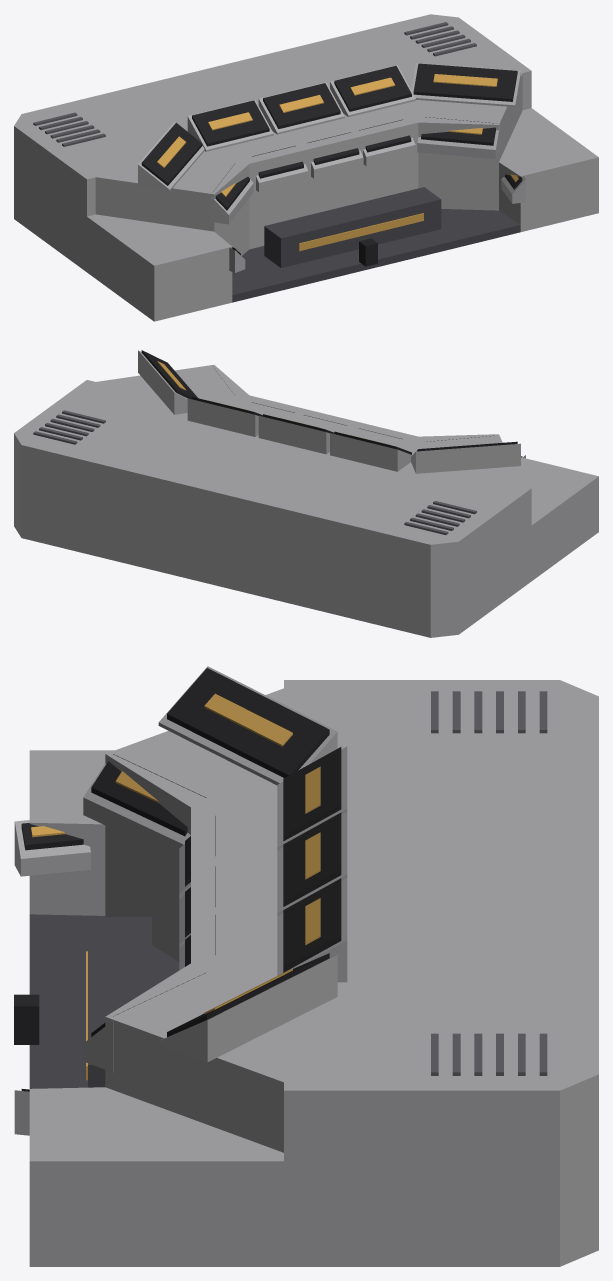
Rendered from vge_pilot_bridge.obj.
3 views of the same model, one above another, from view 1: azimuth 30°, elevation 25°; view 2: azimuth 150°, elevation 25°; view 3: azimuth 270°, elevation 25° (orthographic). The views are drawn at different scales.
Visible parts, largest first — view 1: vge_pilot_bridge_0, vge_pilot_bridge_1, vge_pilot_bridge_8, vge_pilot_bridge_15, vge_pilot_bridge_16, vge_pilot_bridge_33, vge_pilot_bridge_21, vge_pilot_bridge_27, vge_pilot_bridge_24, vge_pilot_bridge_30, vge_pilot_bridge_50, vge_pilot_bridge_17 (+17 smaller); view 2: vge_pilot_bridge_0, vge_pilot_bridge_1, vge_pilot_bridge_29, vge_pilot_bridge_20, vge_pilot_bridge_23, vge_pilot_bridge_26, vge_pilot_bridge_32, vge_pilot_bridge_33; view 3: vge_pilot_bridge_0, vge_pilot_bridge_8, vge_pilot_bridge_15, vge_pilot_bridge_1, vge_pilot_bridge_30, vge_pilot_bridge_32, vge_pilot_bridge_16, vge_pilot_bridge_21, vge_pilot_bridge_27, vge_pilot_bridge_24, vge_pilot_bridge_44, vge_pilot_bridge_29 (+10 smaller).
Boxes of the visible parts, x1,y1,x2,y2 form: vge_pilot_bridge_0: [14, 14, 531, 271]; vge_pilot_bridge_1: [87, 214, 232, 321]; vge_pilot_bridge_8: [499, 108, 598, 231]; vge_pilot_bridge_15: [232, 209, 520, 302]; vge_pilot_bridge_16: [264, 187, 441, 268]; vge_pilot_bridge_33: [413, 63, 517, 101]; vge_pilot_bridge_21: [192, 100, 269, 146]; vge_pilot_bridge_27: [334, 65, 411, 111]; vge_pilot_bridge_24: [263, 83, 340, 129]; vge_pilot_bridge_30: [141, 122, 202, 185]; vge_pilot_bridge_50: [417, 123, 500, 159]; vge_pilot_bridge_17: [299, 213, 423, 251]; vge_pilot_bridge_0: [14, 365, 531, 637]; vge_pilot_bridge_1: [514, 457, 598, 580]; vge_pilot_bridge_29: [411, 443, 520, 473]; vge_pilot_bridge_20: [330, 433, 412, 471]; vge_pilot_bridge_23: [258, 416, 329, 454]; vge_pilot_bridge_26: [187, 398, 258, 436]; vge_pilot_bridge_32: [138, 350, 187, 414]; vge_pilot_bridge_33: [141, 350, 197, 399]; vge_pilot_bridge_0: [105, 680, 598, 1266]; vge_pilot_bridge_8: [29, 1087, 283, 1266]; vge_pilot_bridge_15: [29, 914, 179, 1088]; vge_pilot_bridge_1: [29, 750, 114, 915]; vge_pilot_bridge_30: [167, 668, 329, 777]; vge_pilot_bridge_32: [158, 955, 337, 1062]; vge_pilot_bridge_16: [88, 917, 151, 1087]; vge_pilot_bridge_21: [283, 747, 341, 841]; vge_pilot_bridge_27: [283, 878, 341, 972]; vge_pilot_bridge_24: [283, 812, 341, 906]; vge_pilot_bridge_44: [83, 750, 190, 859]; vge_pilot_bridge_29: [158, 666, 337, 785].
Size of the model in its own units: 5 by 1.25 by 3.01.
